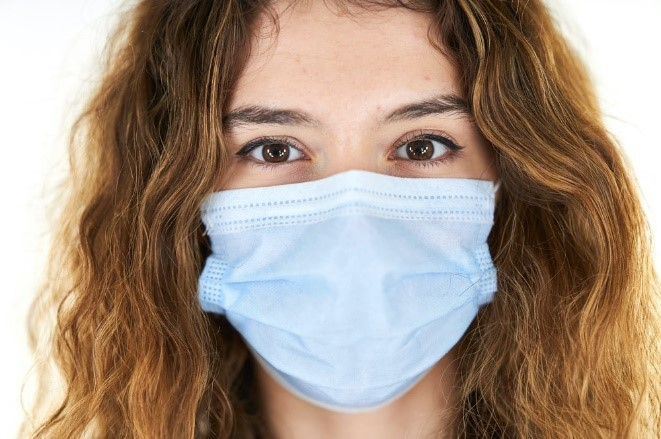mask: (181, 171, 531, 413)
